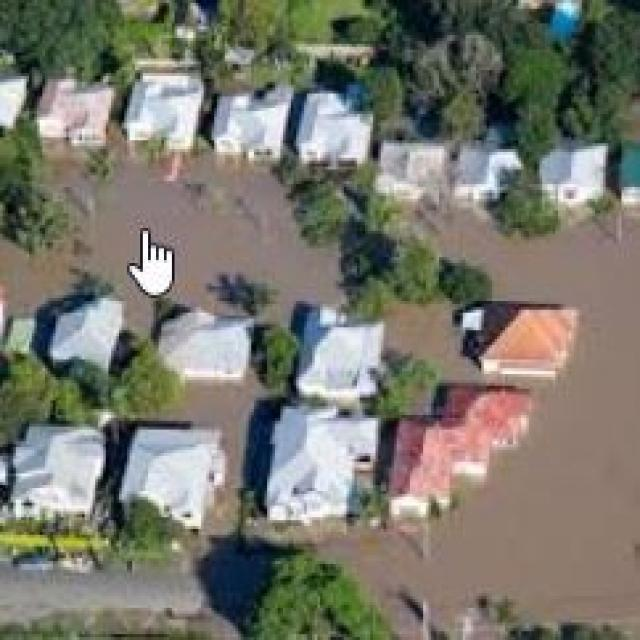flood: (322, 206, 640, 640), (0, 154, 342, 332), (169, 372, 265, 456)
house: (389, 386, 531, 524), (269, 404, 380, 528), (5, 421, 105, 527), (124, 428, 223, 530), (464, 299, 580, 381), (38, 294, 124, 392), (304, 309, 388, 402), (287, 89, 375, 170), (159, 307, 248, 382), (124, 64, 203, 146), (40, 80, 114, 154), (218, 84, 288, 160), (535, 141, 609, 206), (382, 139, 442, 198), (460, 141, 514, 201), (0, 76, 32, 126), (623, 146, 640, 204)
